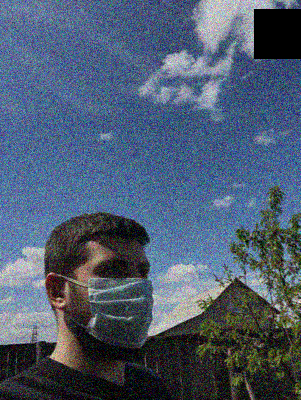with_mask: (83, 250, 154, 362)
